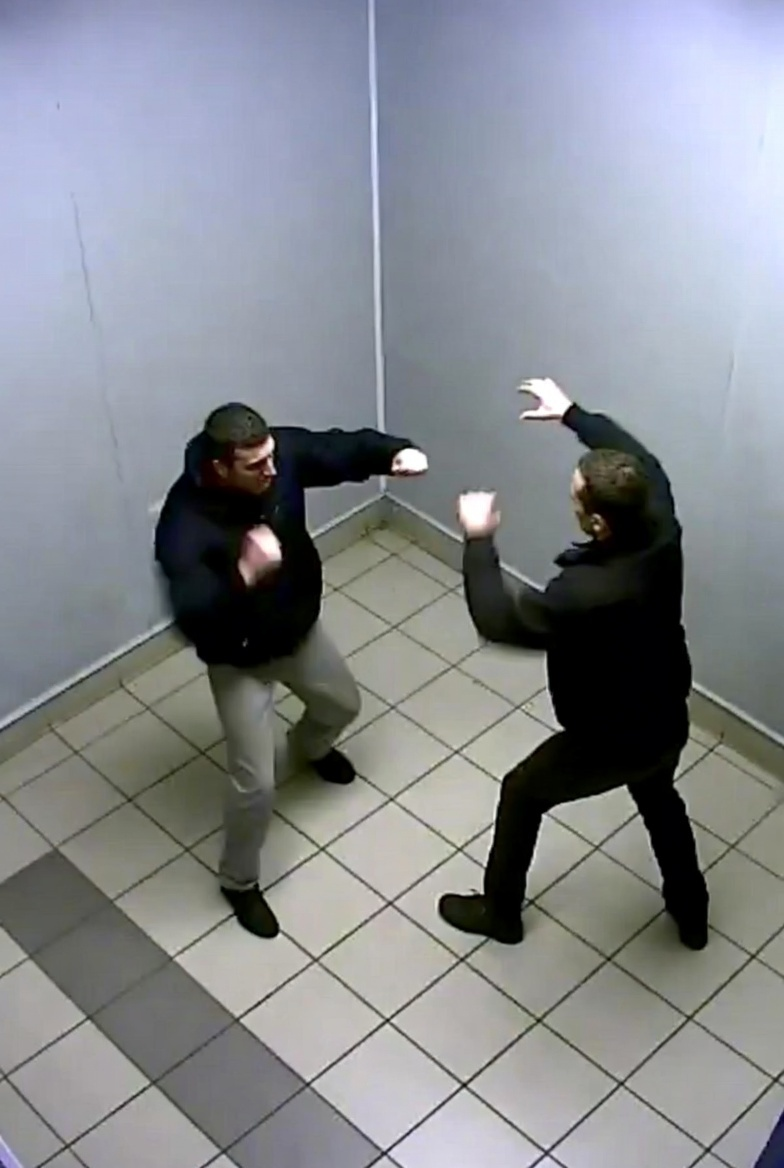Assault: (439, 377, 714, 953)
Fighting: (154, 401, 430, 941)
